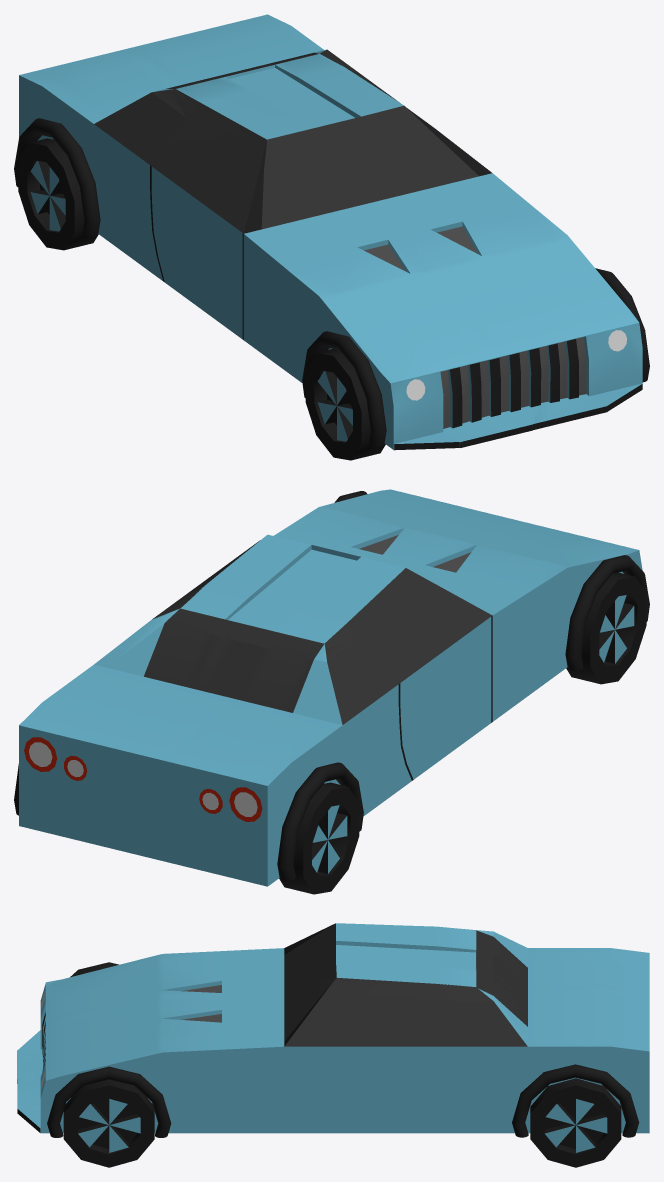
File: originalWithWheels.fbx
3 views of the same model, one above another, from view 1: azimuth 30°, elevation 25°; view 2: azimuth 150°, elevation 25°; view 3: azimuth 270°, elevation 25° (orthographic). The views are drawn at different scales.
Parts seen in each view (by area): view 1: Car_Base, Back_LeftW, From_LeftW, Fender_Front, Fender_Back, Front_Healights; view 2: Car_Base, Back_LeftW, From_LeftW, Fender_Back, Fender_Front, Back_Headlights_Outer_Cover, Back_Headlights_Outer; view 3: Car_Base, Back_RıghtW, Front_RıghtW, Fender_Front, Fender_Back.
Boxes of the visible parts, <box> form: Car_Base: <box>19,14,642,450</box>; Back_LeftW: <box>18,138,98,250</box>; From_LeftW: <box>305,348,385,460</box>; Fender_Front: <box>302,268,649,446</box>; Fender_Back: <box>14,118,100,236</box>; Front_Healights: <box>406,330,626,400</box>; Car_Base: <box>19,489,642,886</box>; Back_LeftW: <box>279,782,359,894</box>; From_LeftW: <box>566,572,646,684</box>; Fender_Back: <box>14,762,363,880</box>; Fender_Front: <box>334,491,649,670</box>; Back_Headlights_Outer_Cover: <box>24,737,262,821</box>; Back_Headlights_Outer: <box>29,742,257,816</box>; Car_Base: <box>17,923,649,1133</box>; Back_RıghtW: <box>530,1078,621,1167</box>; Front_RıghtW: <box>63,1079,154,1167</box>; Fender_Front: <box>47,962,171,1137</box>; Fender_Back: <box>512,1064,639,1137</box>.
Size of the model in its own units: 240 by 160 by 572.
